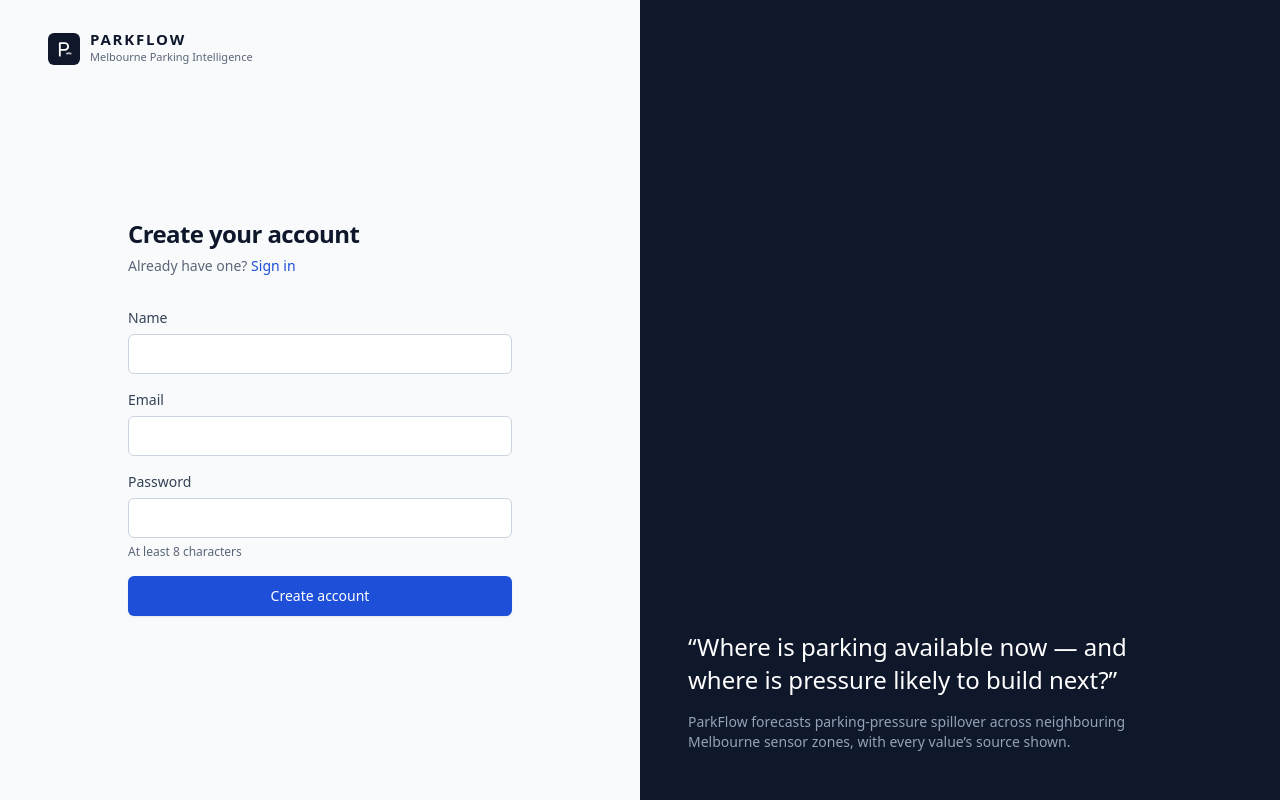
Test: auth › validates registration fields before submitting
This screenshot has width=1280, height=800.
Click the button "Create account". click: click(320, 596)
box: 128,576 -> 512,616
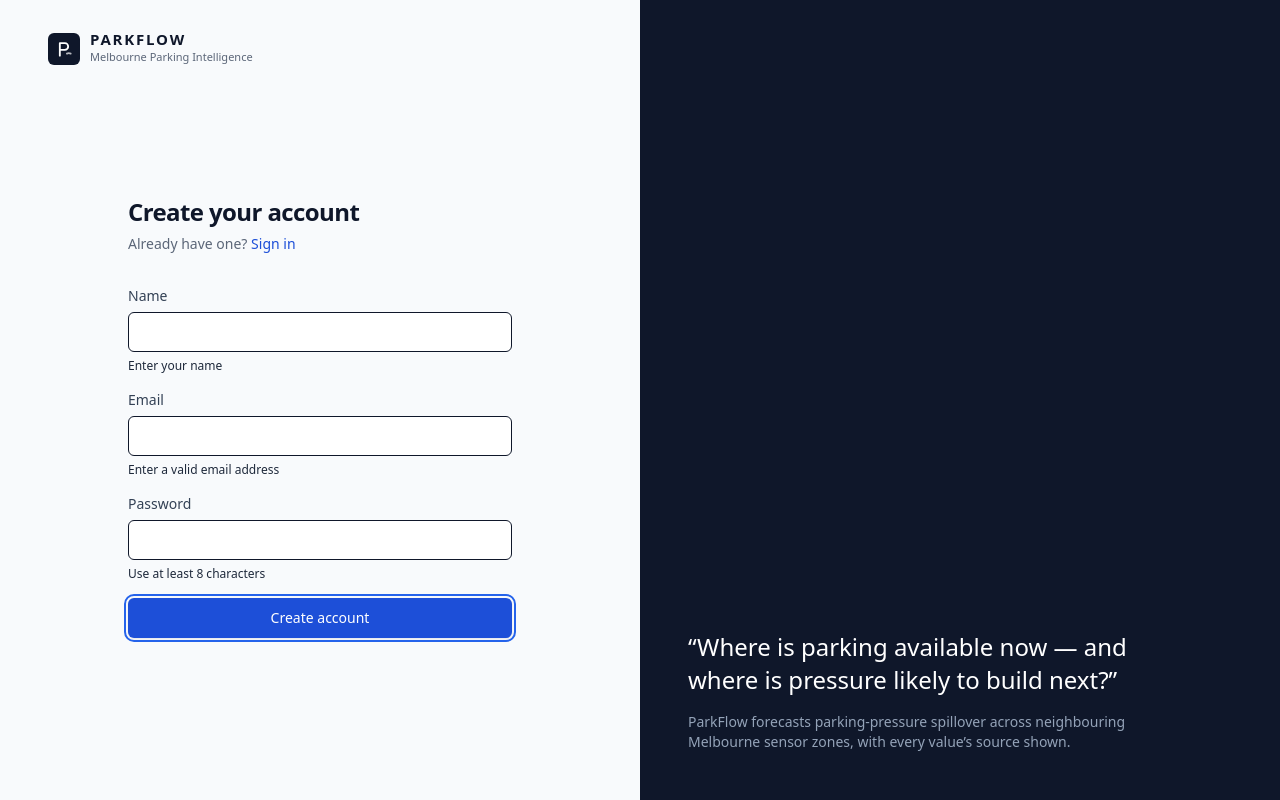
Expected: the text "Enter your name" is shown, 128,356 -> 222,374
Expected: the text "Use at least 8 characters" is shown, 128,564 -> 265,582
